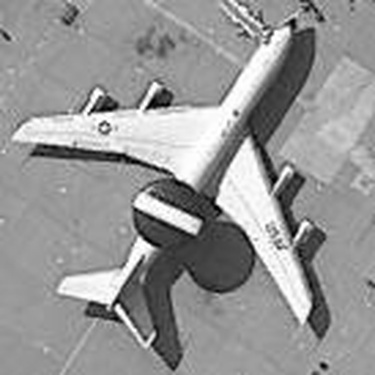airplane: (8, 6, 338, 357)
